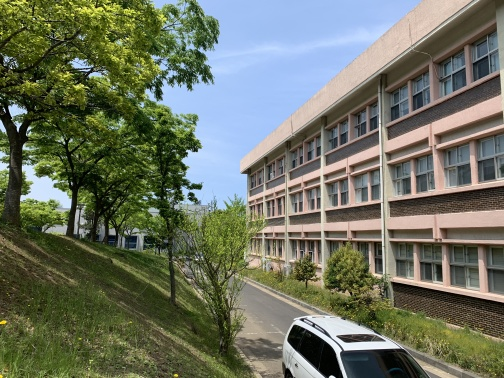College Of Education: (239, 38, 504, 338)
